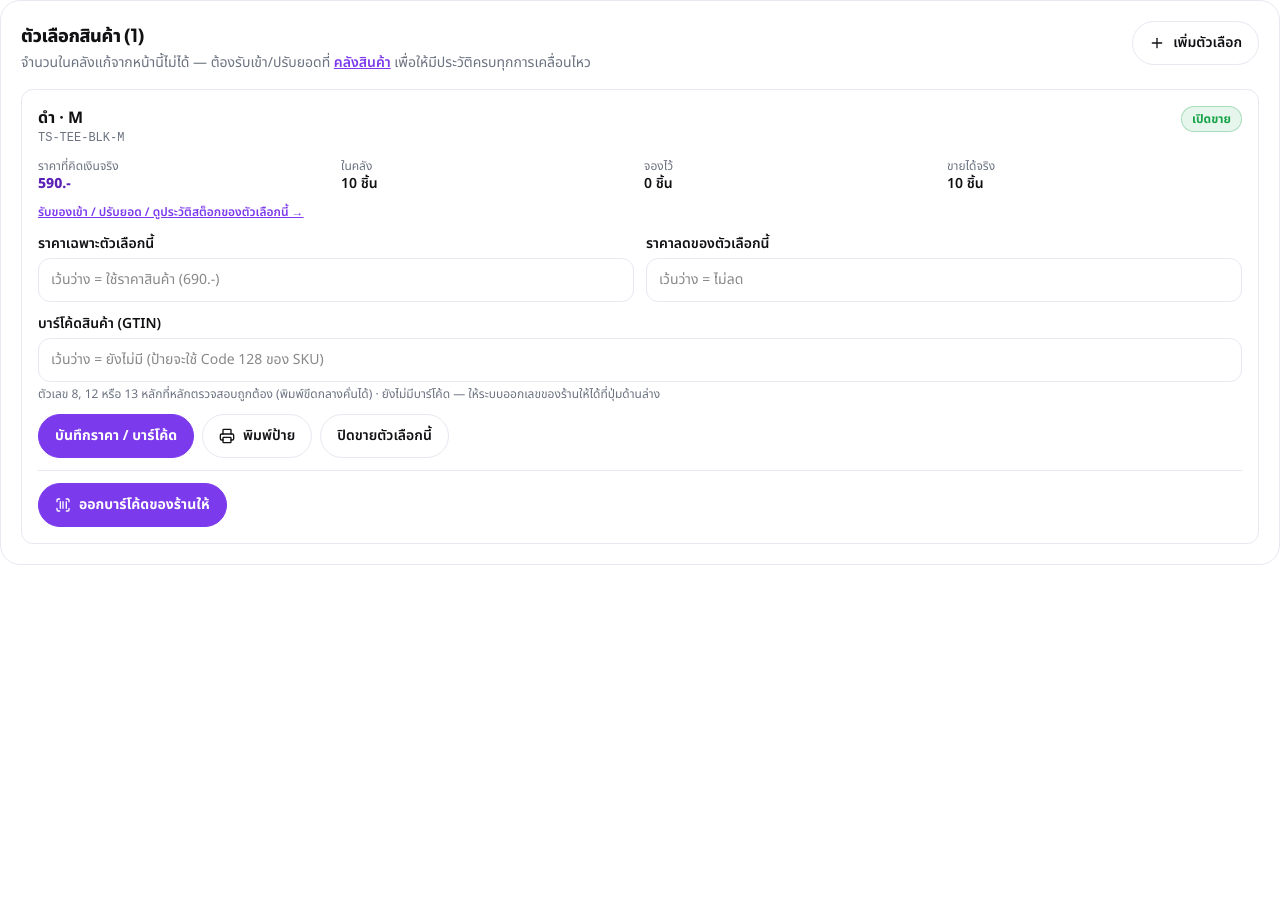
VariantManager — ข้อความจาก server (STEP 37) › ตั้งราคาลดโดยไม่มีราคาของตัวเอง ต้องแสดงเหตุผลจริงจาก server
The width and height of the screenshot is (1280, 900).
Type "490" into the field labelled "ราคาลดของตัวเลือกนี้" at (944, 280), box [646,258,1242,302]
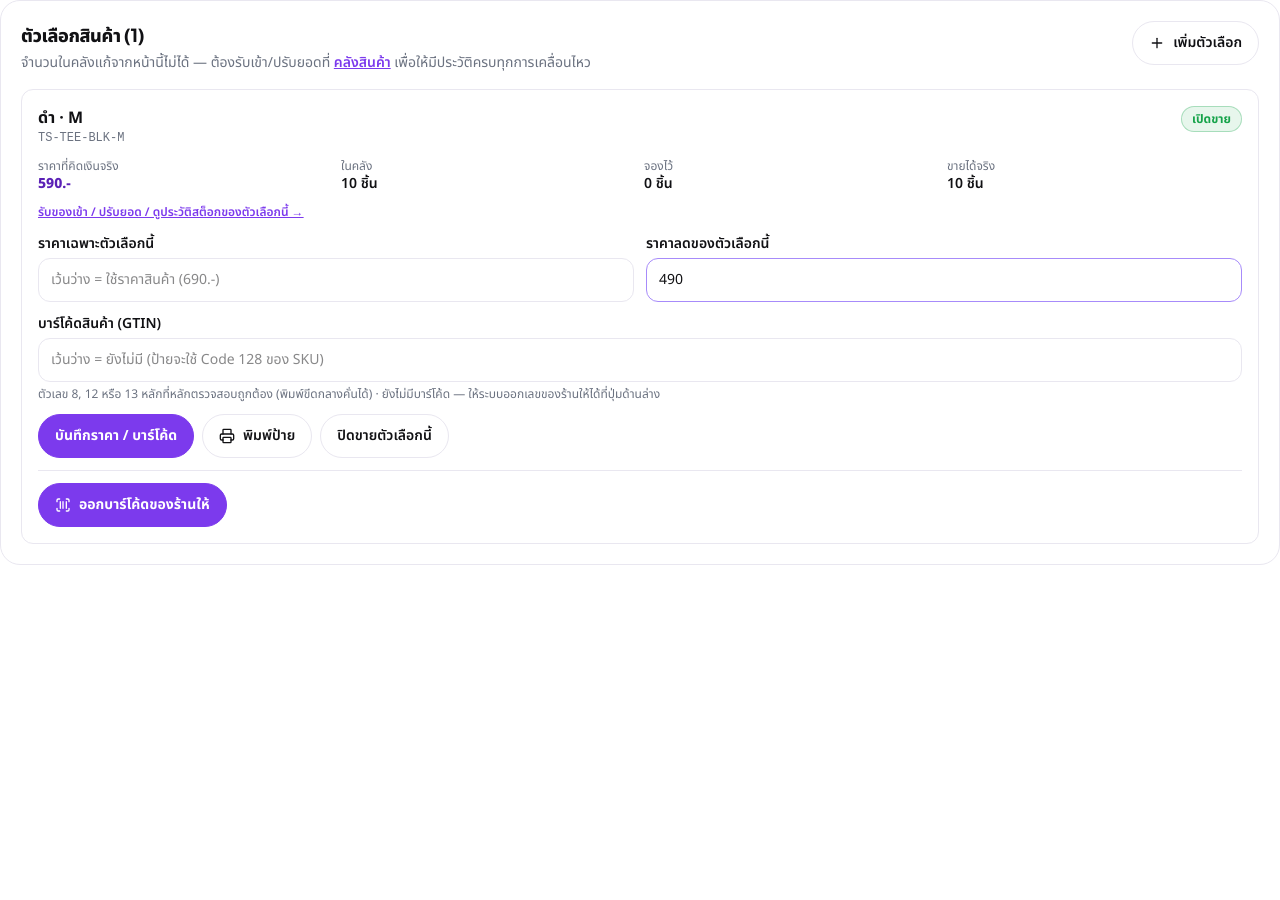
Click the button "บันทึกราคา / บาร์โค้ด" at (116, 436), box [38,414,194,458]
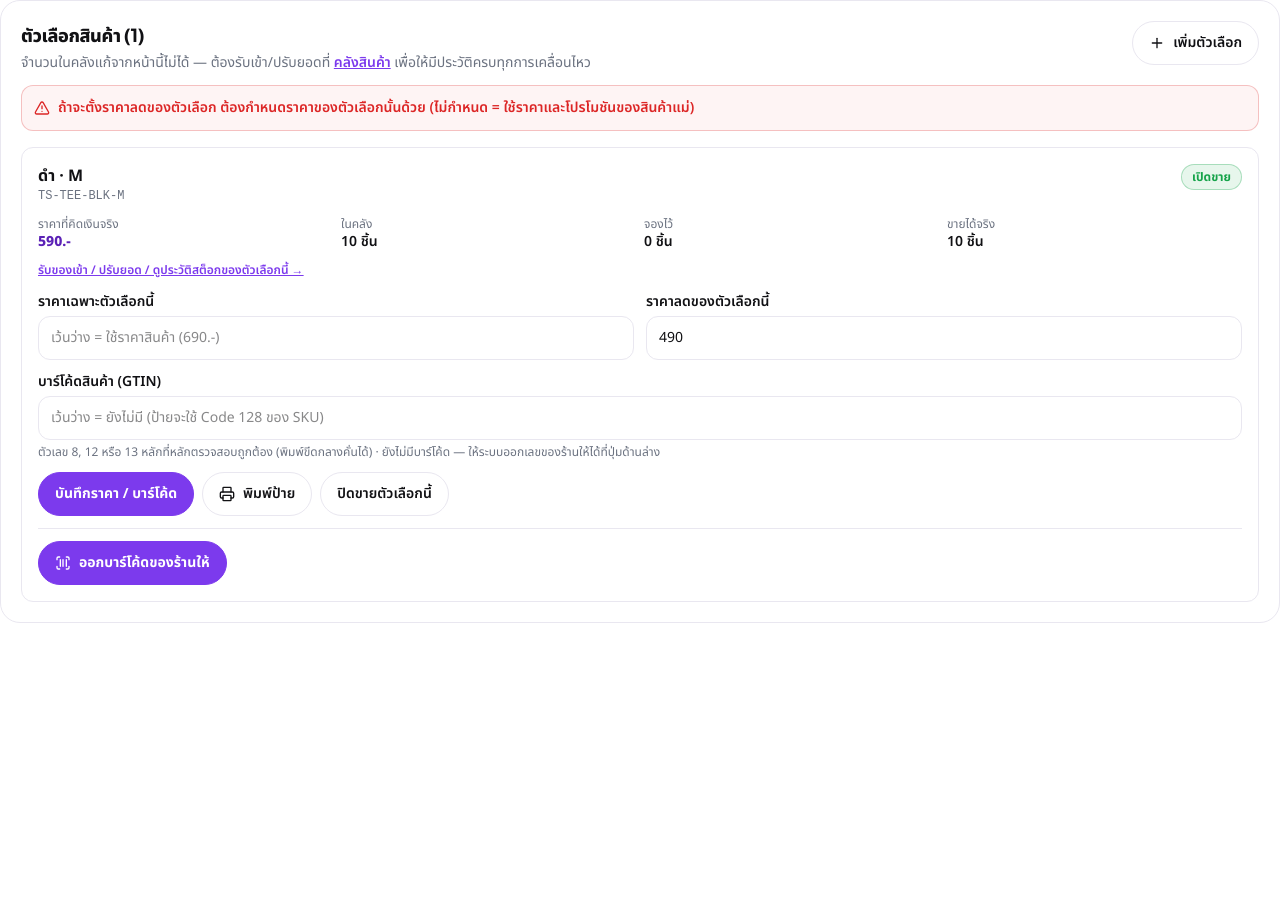
Result: the message shows "ต้องกำหนดราคาของตัวเลือกนั้นด้วย" at [58,97,694,118]
